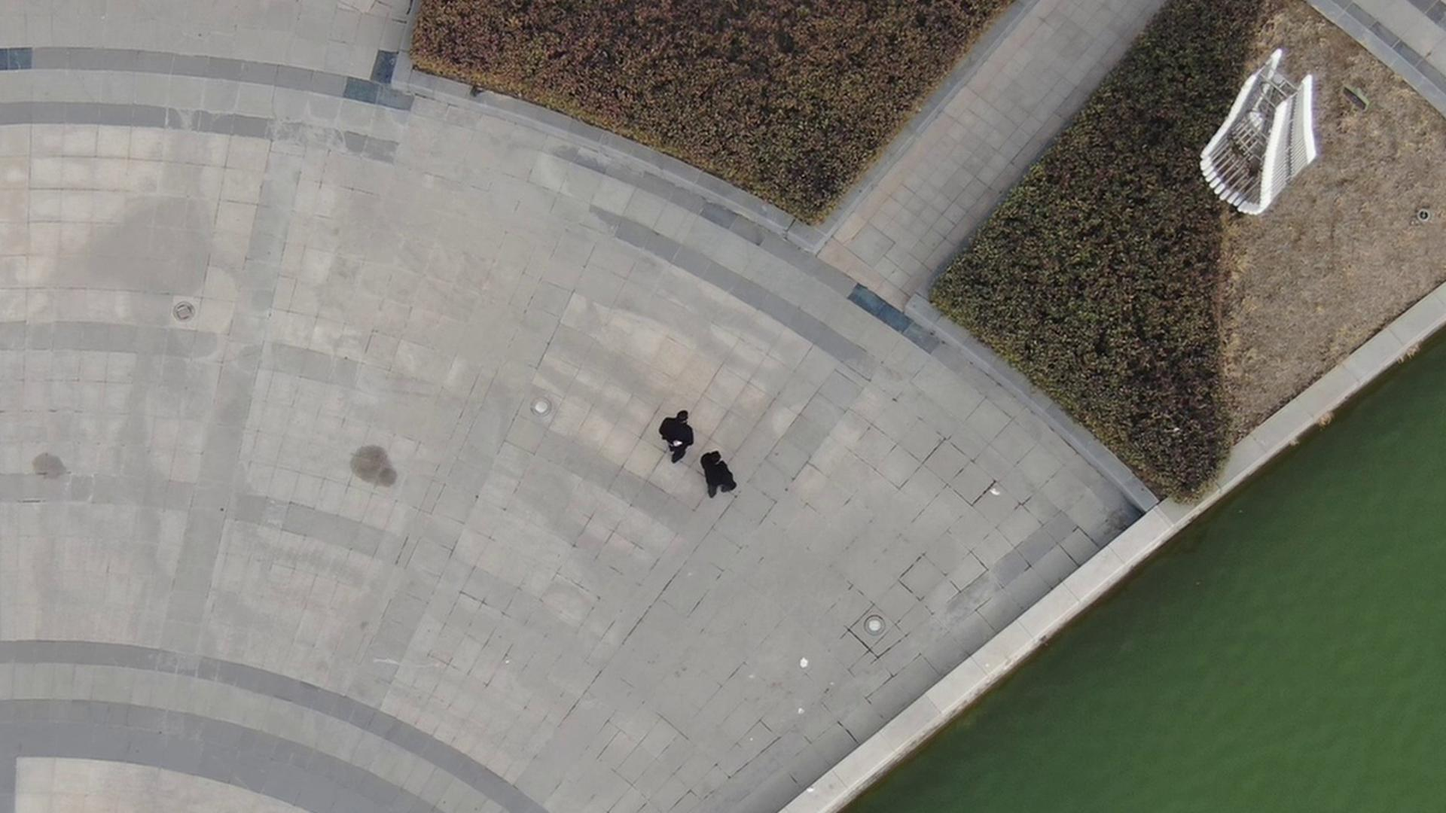human: (647, 396, 692, 463), (691, 442, 735, 505)
